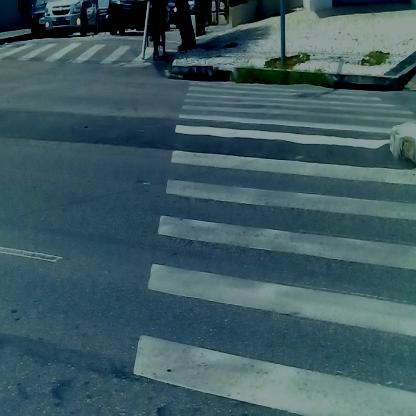crosswalk: (154, 77, 411, 409), (2, 34, 156, 68)
sidewalk: (171, 33, 416, 92)
